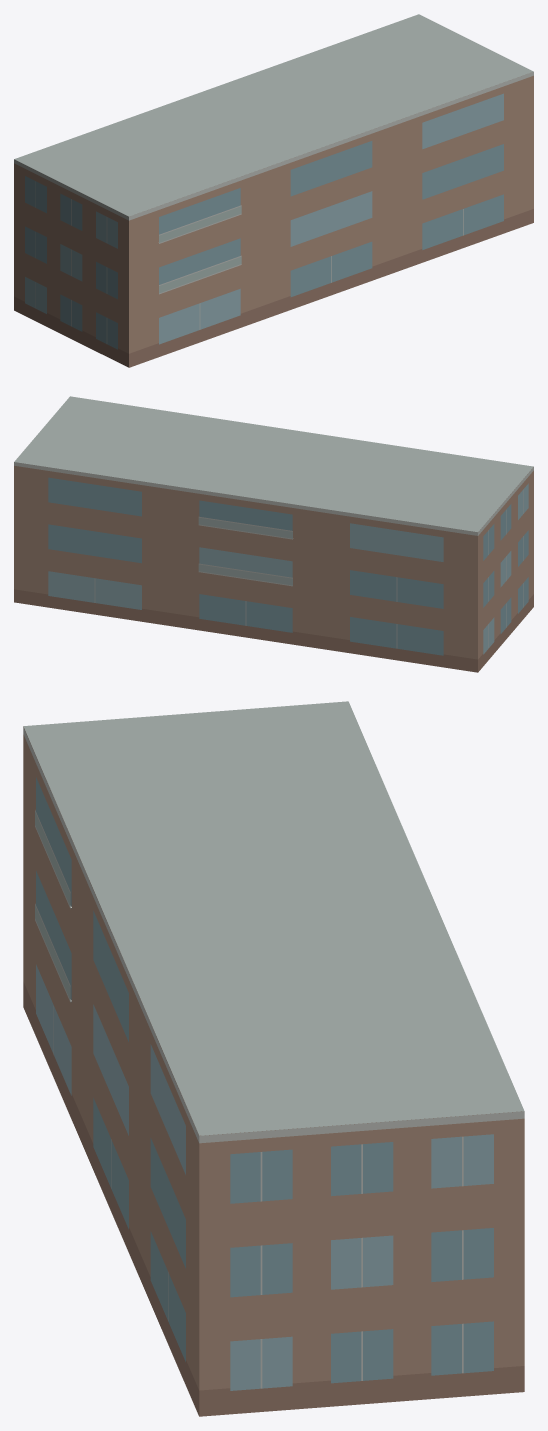
The model's file is survey-upis-32704831.glb.
3 renders of one model, top to bottom at view 1: azimuth 30°, elevation 25°; view 2: azimuth 150°, elevation 25°; view 3: azimuth 270°, elevation 25°, orthographic. The views are drawn at different scales.
Visible parts, largest first — view 1: survey-upis-32704831.tmp; view 2: survey-upis-32704831.tmp; view 3: survey-upis-32704831.tmp.
Boxes of the visible parts, x1,y1,x2,y2 form: survey-upis-32704831.tmp: (14, 14, 533, 367); survey-upis-32704831.tmp: (14, 396, 533, 672); survey-upis-32704831.tmp: (23, 701, 524, 1416).
Bounding box in the file's own units: 30.38 × 9.15 × 14.81.
